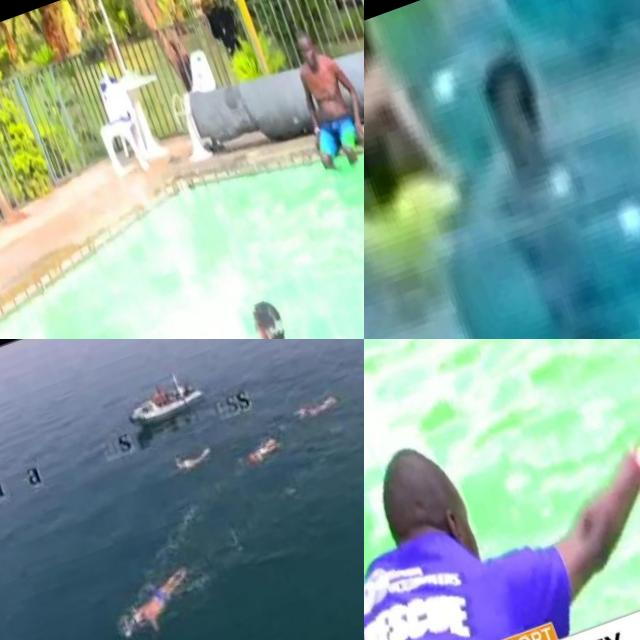drowning: (364, 11, 447, 215), (223, 285, 319, 339)
out of water: (364, 388, 640, 640), (275, 16, 364, 175)
swimming: (462, 55, 600, 248), (104, 558, 208, 640)
